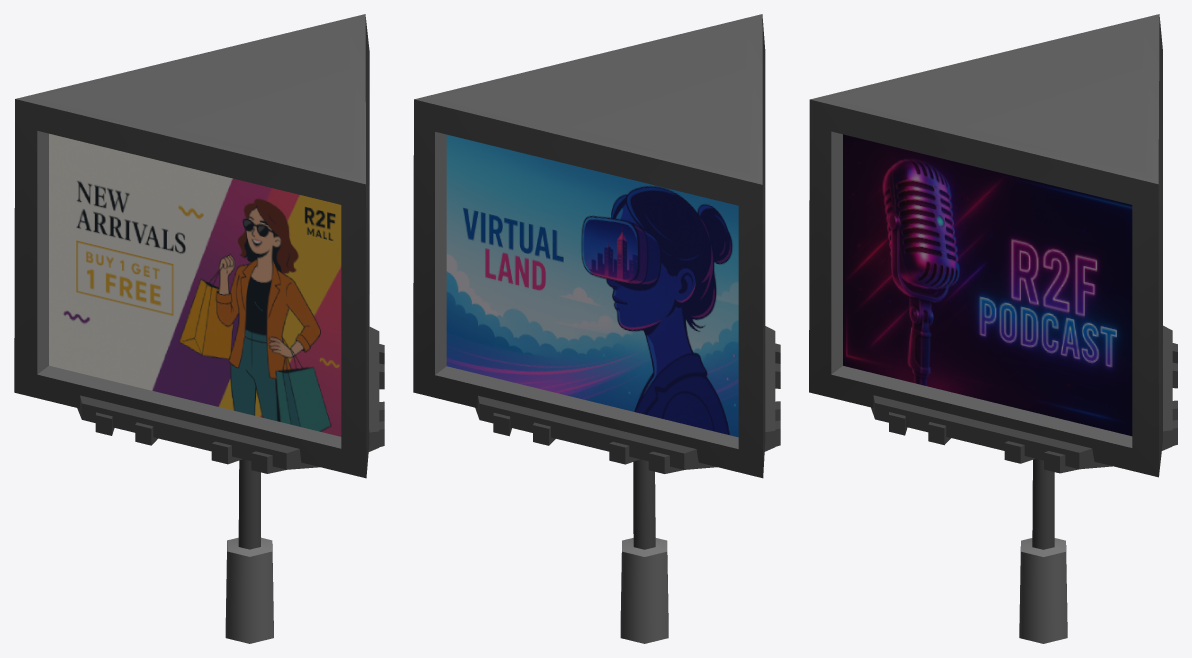
Rendered from Billboard3S.fbx.
The picture shows the model from 3 angles, left to right: view 1: azimuth 30°, elevation 25°; view 2: azimuth 150°, elevation 25°; view 3: azimuth 270°, elevation 25°; orthographic projection.
Visible parts, largest first — view 1: Billbord3S; view 2: Billbord3S; view 3: Billbord3S.
Boxes of the visible parts, x1=… form: Billbord3S: x1=14, y1=14, x2=384, y2=643; Billbord3S: x1=413, y1=14, x2=780, y2=643; Billbord3S: x1=809, y1=14, x2=1177, y2=643.
Size of the model in its own units: 1.53 by 2.22 by 1.39.
